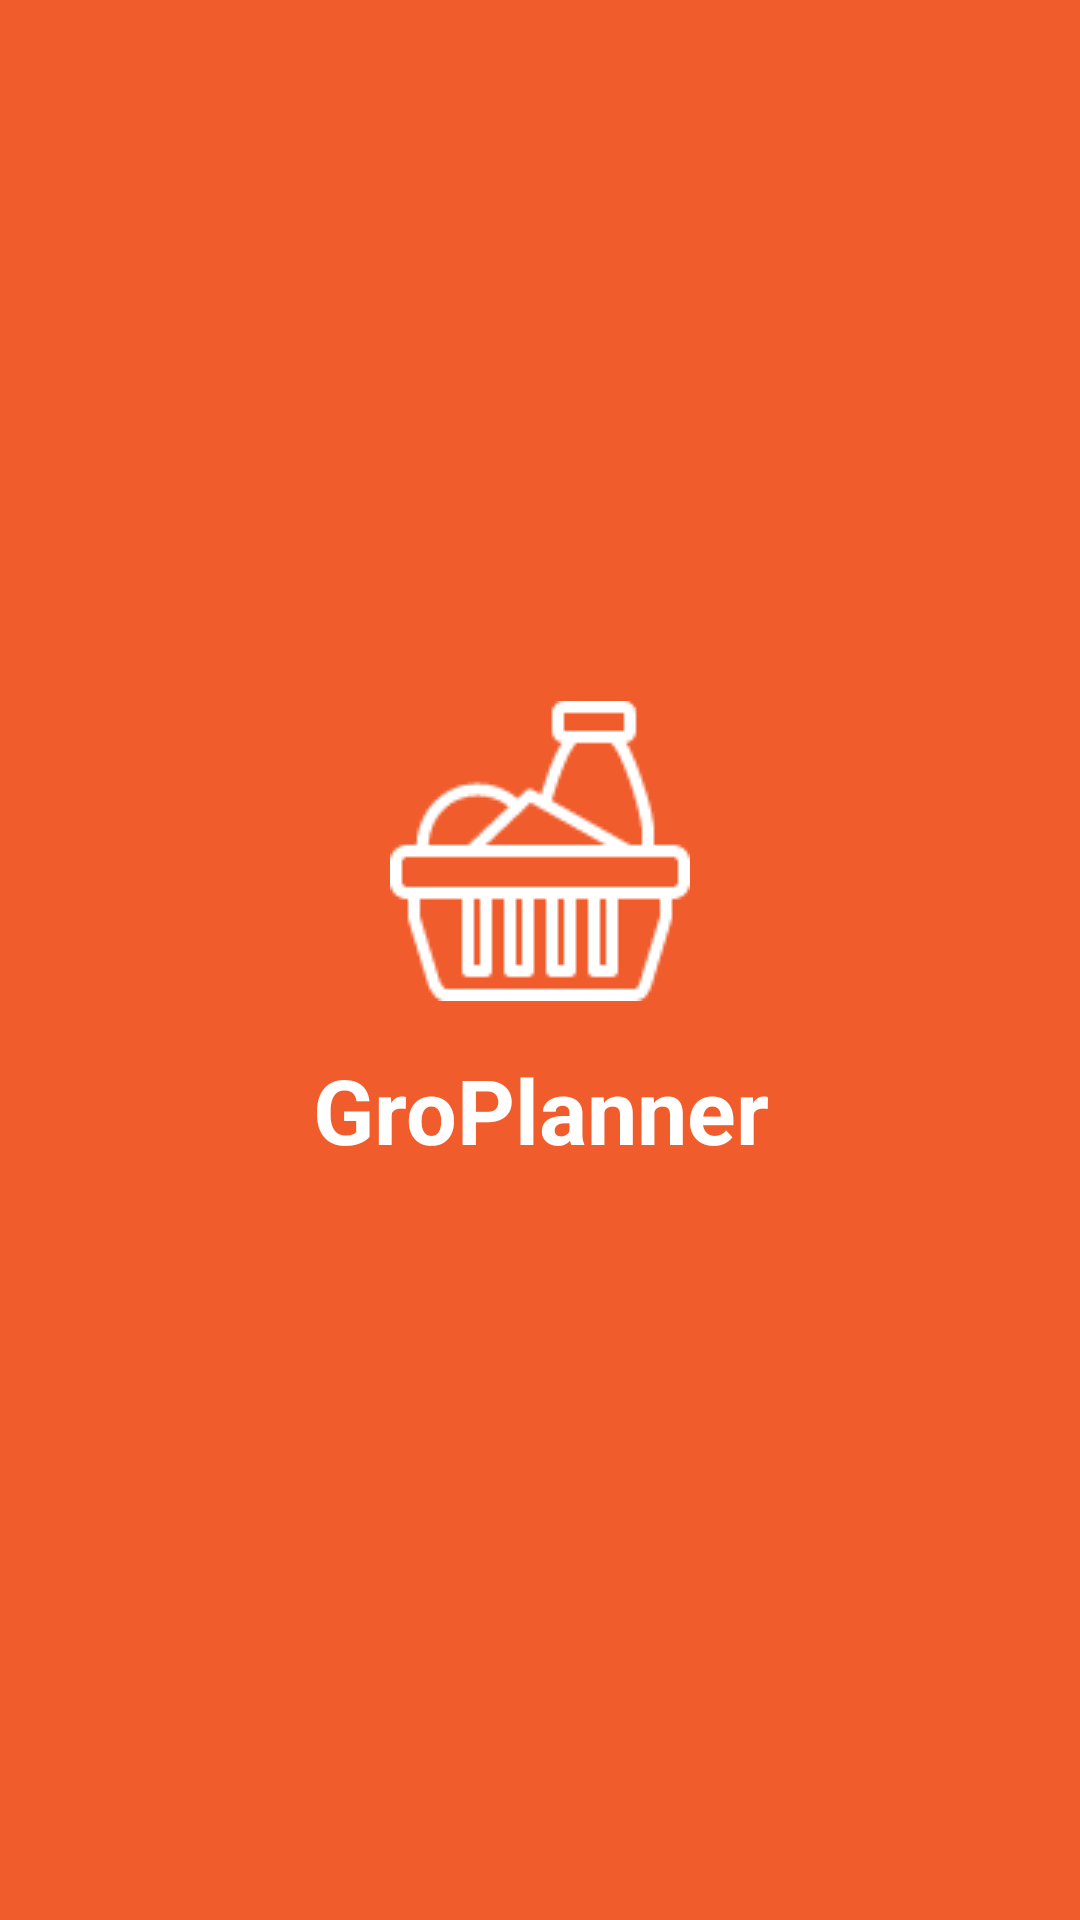

Screen size 1080 × 1920. Icon name, then its box in pixels as (x1, y1, x2, y2):
app: (390, 701, 690, 1001)
